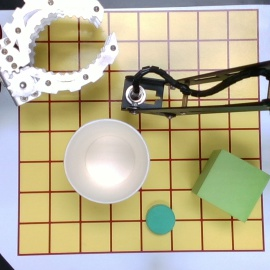cup: (63, 118, 150, 205)
green: (146, 205, 175, 234)
